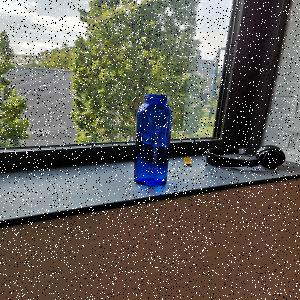Plastic-bottle: (135, 94, 174, 188)
